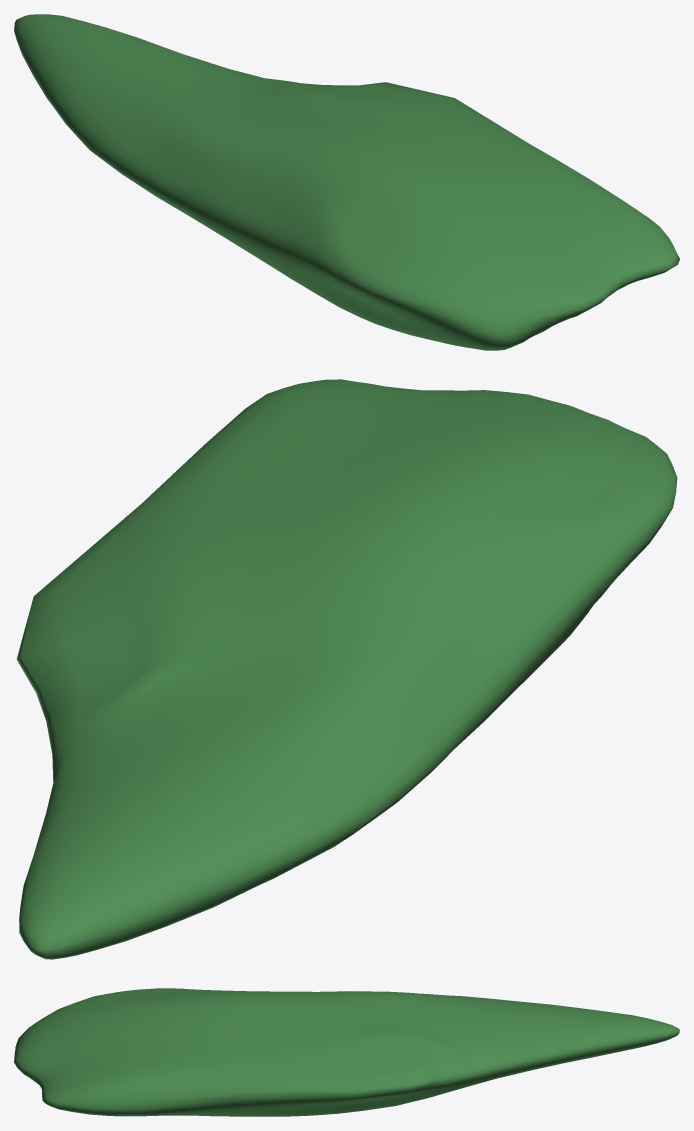
The model's file is Feuilles_Obstacle_3.fbx.
The picture shows the model from 3 angles, top to bottom: view 1: azimuth 30°, elevation 25°; view 2: azimuth 150°, elevation 25°; view 3: azimuth 270°, elevation 25°; orthographic projection. The views are drawn at different scales.
Visible parts, largest first — view 1: Feuilles.001; view 2: Feuilles.001; view 3: Feuilles.001.
Boxes of the visible parts, box(x1,y1,x2,y2) form: Feuilles.001: box(14, 14, 679, 350); Feuilles.001: box(16, 379, 677, 959); Feuilles.001: box(14, 988, 679, 1116).
Bounding box in the file's own units: 273 × 97.07 × 657.
